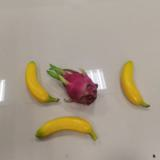pitaya: (46, 63, 99, 105)
